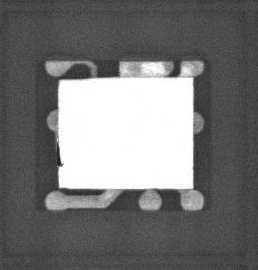DIE_BROKEN: (54, 141, 65, 168)
